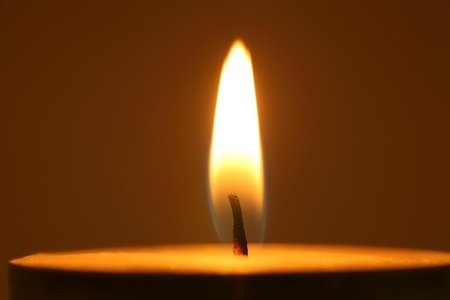fire: (207, 32, 266, 235)
